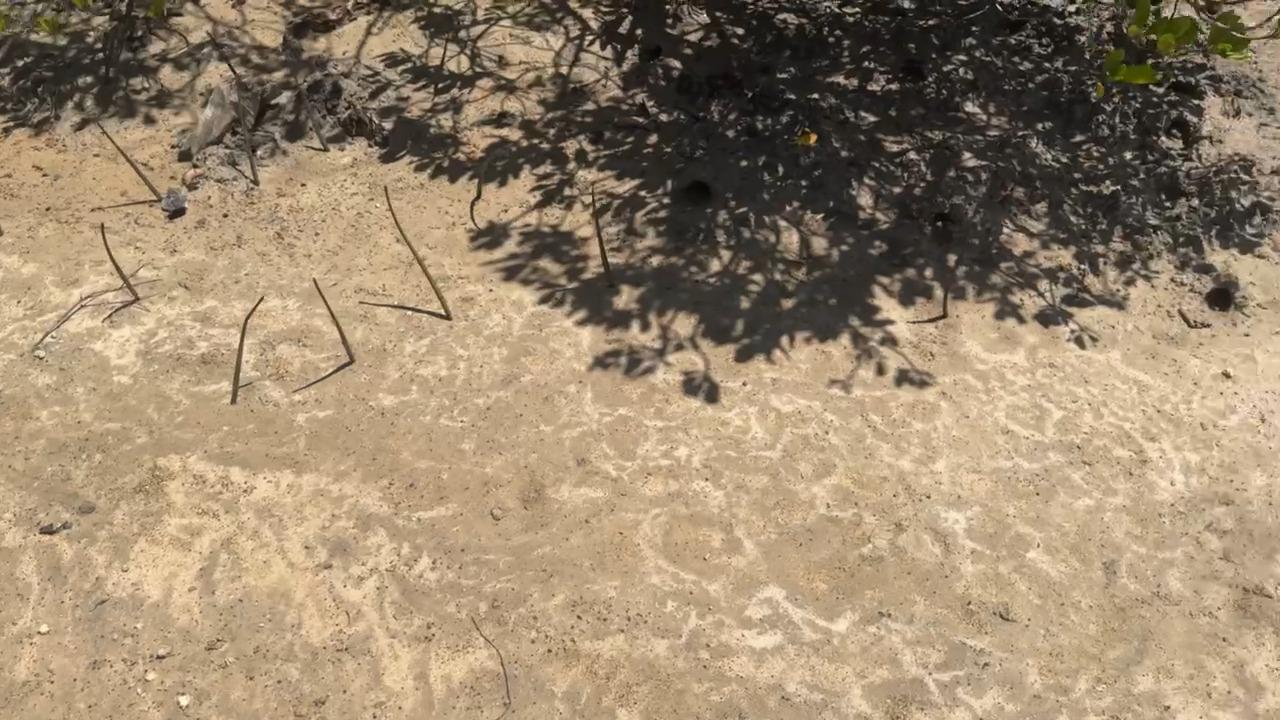Tree: (383, 183, 453, 321), (96, 120, 163, 204), (289, 60, 332, 152), (312, 275, 356, 364), (100, 221, 141, 302), (233, 295, 266, 389), (590, 183, 615, 284), (235, 90, 261, 186), (205, 29, 239, 77), (941, 276, 950, 319)
